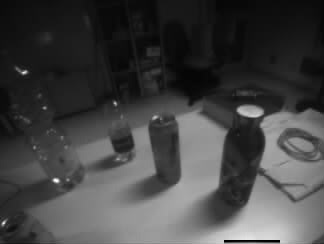Bottle: (17, 75, 79, 184), (222, 105, 263, 202), (105, 96, 133, 158)
Tin can: (151, 114, 182, 182)
